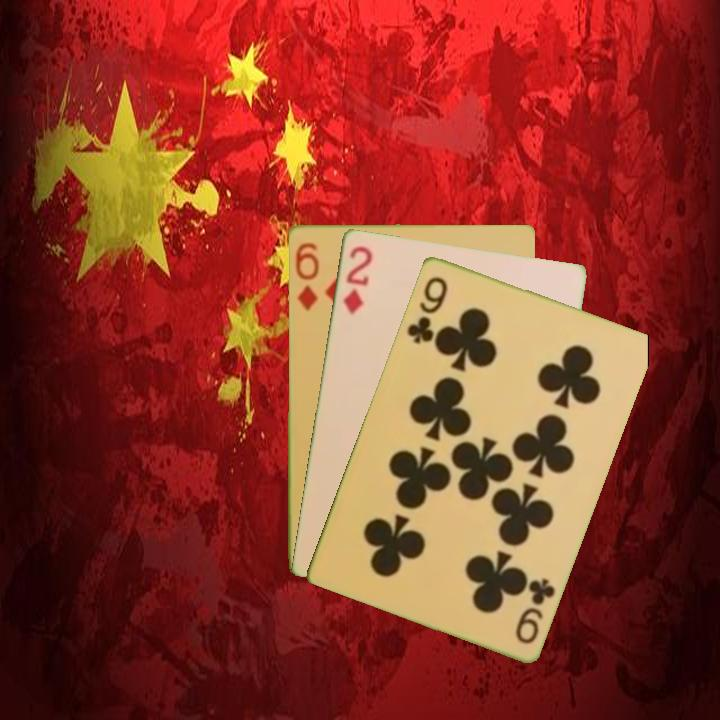2d: (339, 241, 375, 317)
6d: (292, 239, 322, 314)
9c: (403, 272, 451, 347), (511, 574, 558, 647)
